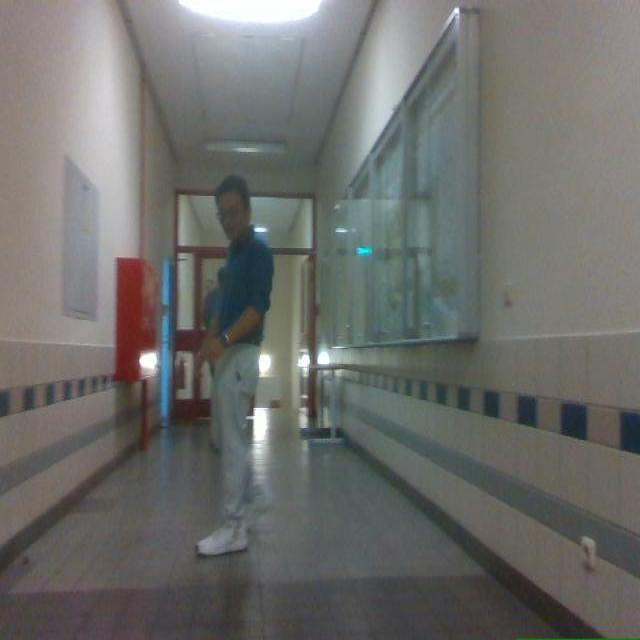humans: (196, 176, 273, 555)
